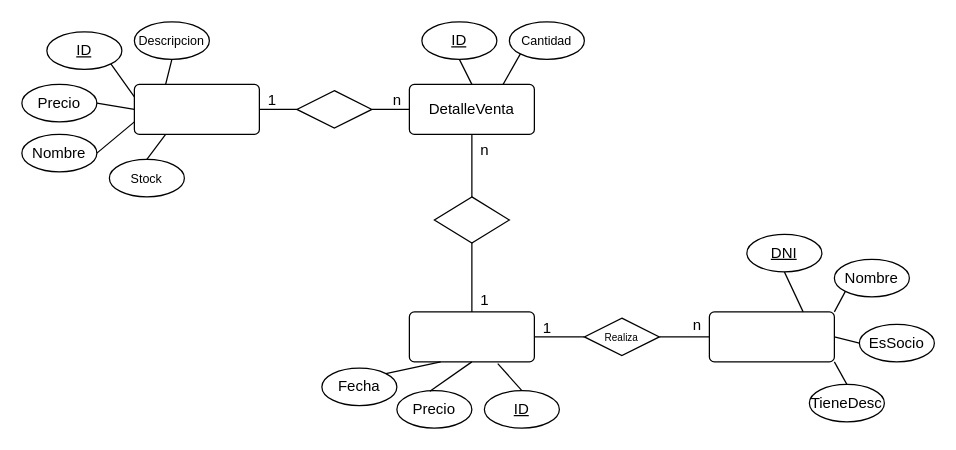
Image size: 956x450. Some labels were removed from this diagram. The shapes that lost their labels are listed below. From the top down, each one's centre as x and y in pixels, then its label:
(196,108): Articulo
(334,108): Posee
(471,219): Pertenece a
(471,336): Venta
(771,336): Cliente
